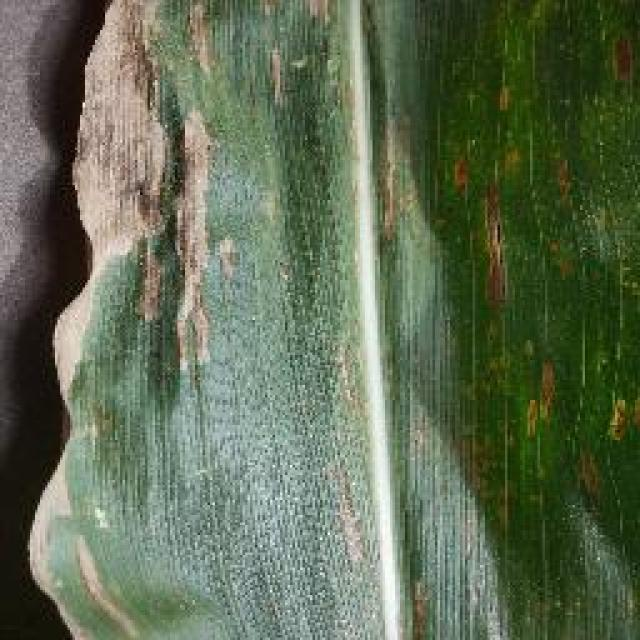Corn___Cercospora_leaf_spot Gray_leaf_spot: (10, 0, 638, 640)
